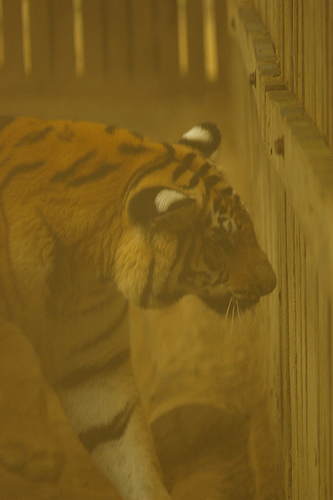Tigre: (32, 114, 268, 344)
